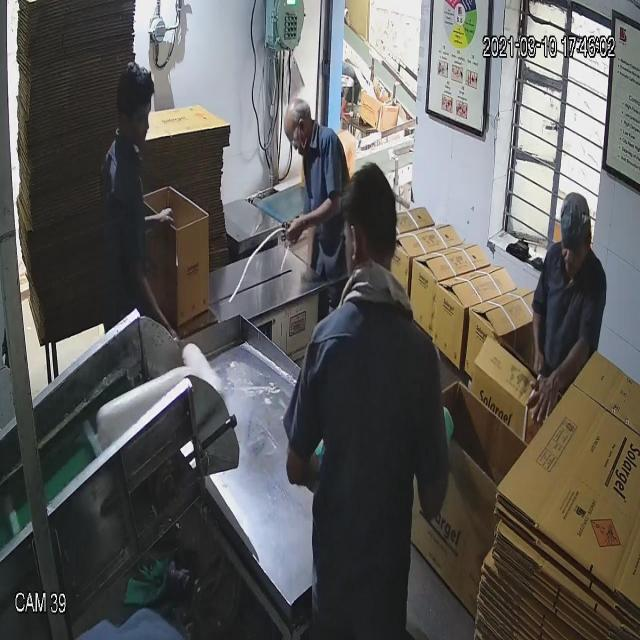No_Gloves: (69, 57, 561, 378)
